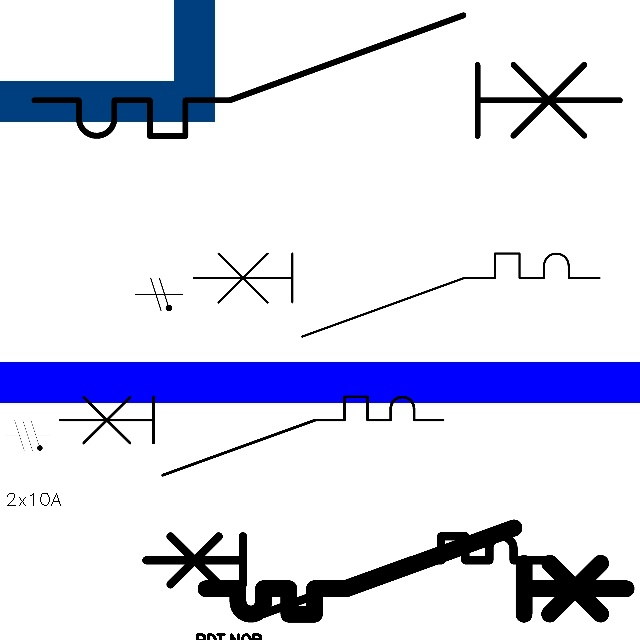interruptor_termomagnetico: (19, 0, 635, 151), (195, 517, 636, 625), (183, 243, 610, 347), (136, 526, 554, 628), (50, 387, 453, 485)
